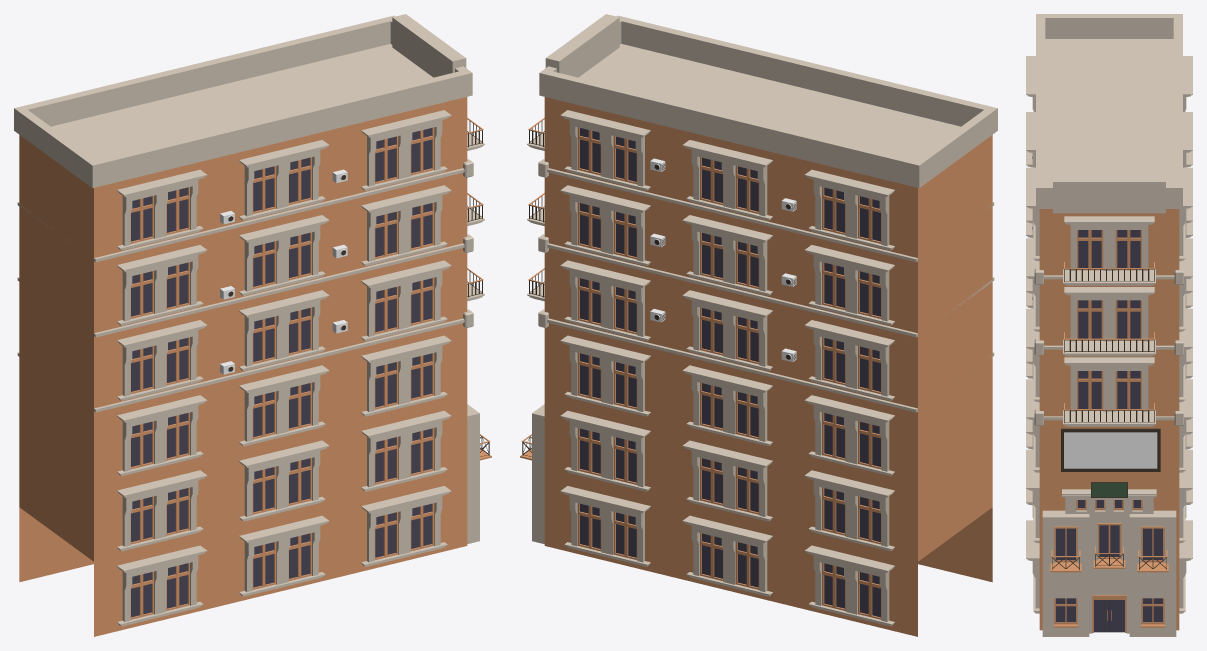
Rendered from Building3.fbx.
3 views of the same model, side by side, from view 1: azimuth 30°, elevation 25°; view 2: azimuth 150°, elevation 25°; view 3: azimuth 270°, elevation 25° (orthographic). The views are drawn at different scales.
Visible parts, largest first — view 1: Plane.023, Plane.020, Plane.022, Plane.024, Plane.025, Plane.021, Plane.029; view 2: Plane.023, Plane.020, Plane.022, Plane.024, Plane.025, Plane.021, Plane.029; view 3: Plane.023, Plane.025, Plane.020, Plane.024, Plane.022, Plane.029, Plane.021.
Part boxes in pixels (bbox=[...]): Plane.023: bbox=[14, 14, 472, 188]; Plane.020: bbox=[19, 395, 491, 561]; Plane.022: bbox=[17, 248, 484, 412]; Plane.024: bbox=[17, 173, 484, 337]; Plane.025: bbox=[17, 97, 484, 262]; Plane.021: bbox=[19, 323, 467, 486]; Plane.029: bbox=[19, 466, 479, 636]; Plane.023: bbox=[539, 14, 997, 188]; Plane.020: bbox=[520, 395, 992, 561]; Plane.022: bbox=[527, 248, 994, 412]; Plane.024: bbox=[527, 173, 994, 337]; Plane.025: bbox=[527, 97, 994, 262]; Plane.021: bbox=[544, 323, 992, 486]; Plane.029: bbox=[532, 466, 992, 636]; Plane.023: bbox=[1036, 14, 1182, 213]; Plane.025: bbox=[1026, 56, 1192, 285]; Plane.020: bbox=[1026, 362, 1192, 572]; Plane.024: bbox=[1026, 150, 1192, 356]; Plane.022: bbox=[1026, 221, 1192, 426]; Plane.029: bbox=[1026, 432, 1192, 636]; Plane.021: bbox=[1026, 291, 1192, 489].
Size of the model in its own units: 2833 by 3200 by 1072.
